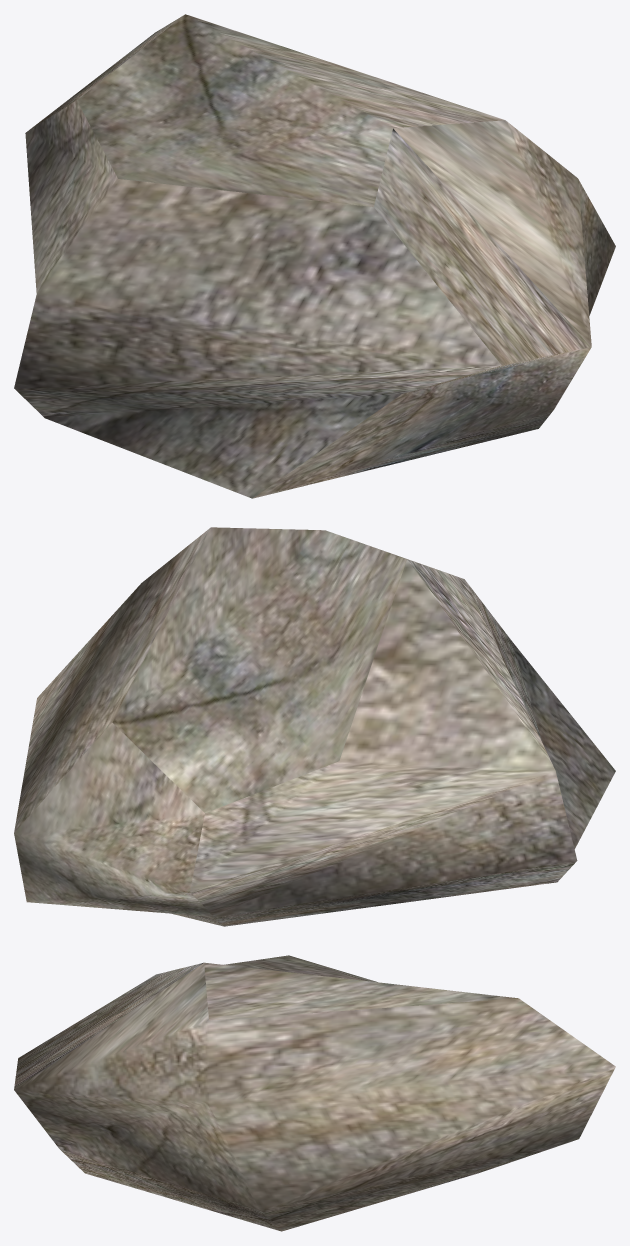
Rendered from rubblePiece_2.obj.
3 renders of one model, top to bottom at view 1: azimuth 30°, elevation 25°; view 2: azimuth 150°, elevation 25°; view 3: azimuth 270°, elevation 25°, orthographic. The views are drawn at different scales.
Visible parts, largest first — view 1: pSphere1; view 2: pSphere1; view 3: pSphere1.
Part boxes in pixels (<box>): pSphere1: <box>14,14,615,498</box>; pSphere1: <box>14,527,615,926</box>; pSphere1: <box>14,955,615,1231</box>.
Bounding box in the file's own units: 0.1742 × 0.0733 × 0.2129.
Materials: 1 (1 with a texture image).
